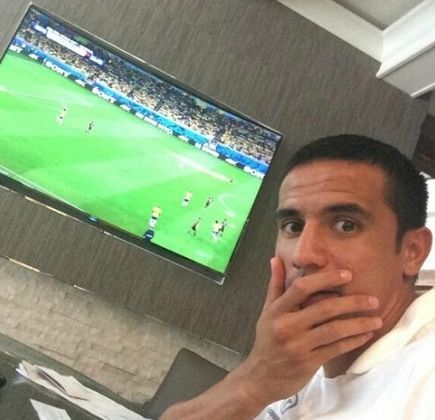face: (274, 165, 398, 330)
